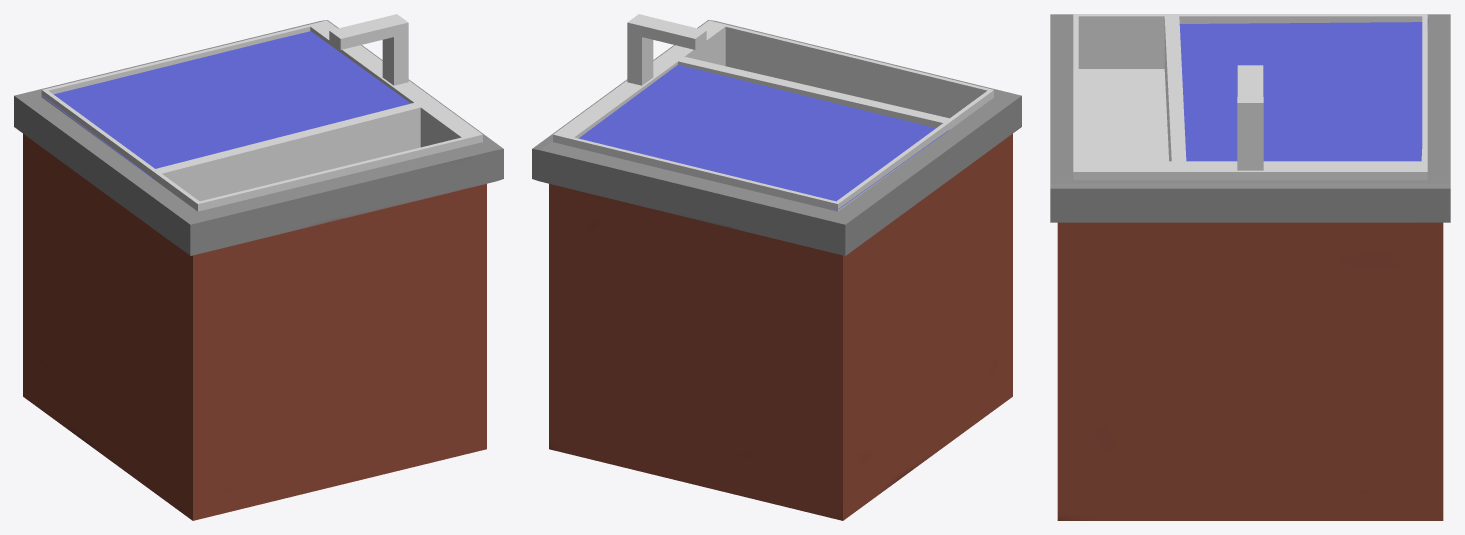
Rendered from sink.fbx.
3 renders of one model, left to right at view 1: azimuth 30°, elevation 25°; view 2: azimuth 150°, elevation 25°; view 3: azimuth 270°, elevation 25°, orthographic. The views are drawn at different scales.
Parts seen in each view (by area): view 1: Cube.001, Plane, Cube; view 2: Cube.001, Plane, Cube; view 3: Cube.001, Plane, Cube.
Boxes of the visible parts, bbox=[...] form: Cube.001: bbox=[14, 20, 503, 520]; Plane: bbox=[41, 31, 410, 177]; Cube: bbox=[41, 14, 482, 211]; Cube.001: bbox=[532, 20, 1021, 520]; Plane: bbox=[578, 64, 948, 209]; Cube: bbox=[553, 14, 993, 211]; Cube.001: bbox=[1050, 14, 1450, 520]; Plane: bbox=[1179, 19, 1428, 161]; Cube: bbox=[1073, 14, 1427, 180].
Size of the model in its own units: 205 by 231 by 200.
